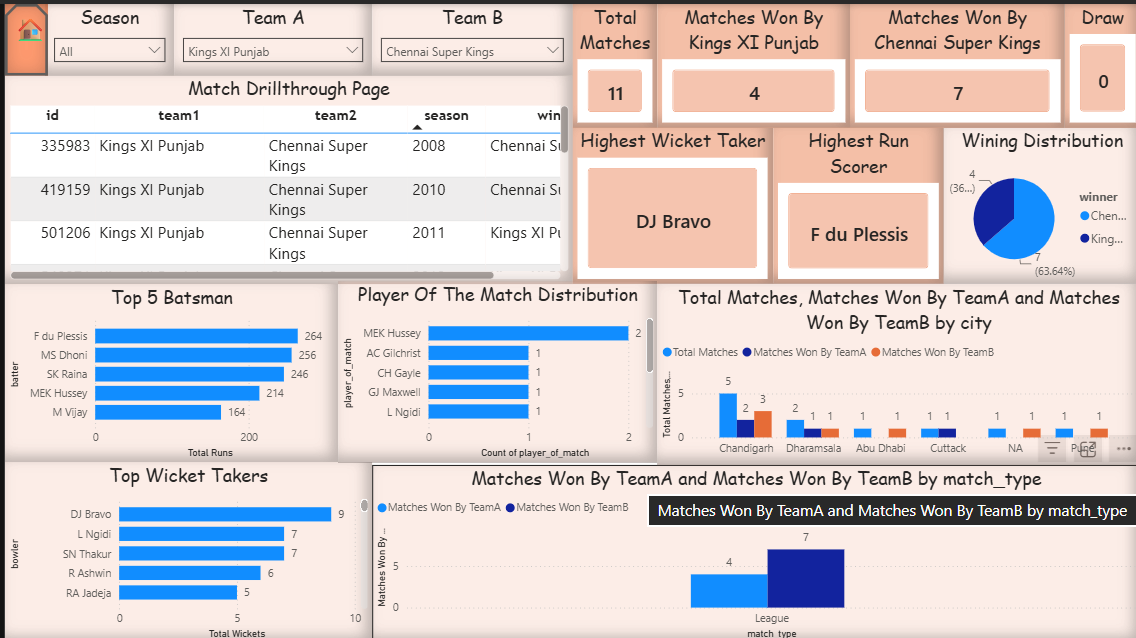

Layout of this report page (visuals, bound fields, positions):
{"tool":"powerbi","page":{"name":"Match Overview","canvas":[1280,720],"ordinal":6},"visuals":[{"type":"slicer","title":"Team A","fields":{"Values":["matches.team1"]},"box":[190.8,0,223.1,80.7],"z":0},{"type":"slicer","title":"Season","fields":{"Values":["matches.season"]},"box":[45.5,0,145.3,80.7],"z":1000},{"type":"slicer","title":"Team B","fields":{"Values":["matches.team2"]},"box":[413.8,0,226,80.7],"z":2000},{"type":"tableEx","title":"Match Drillthrough Page","fields":{"Values":["matches.id","matches.team1","matches.team2","matches.season","matches.winner"]},"box":[0,80.7,639.8,234.8],"z":3000},{"type":"cardVisual","title":"Total Matches","fields":{"Data":["deliveries.Total Matches"]},"box":[639.8,0,95.4,139.4],"z":4000},{"type":"cardVisual","fields":{"Data":["Batsman Parameter.Matches Won By TeamA"]},"box":[735.2,0,217.2,139.4],"z":5000},{"type":"cardVisual","fields":{"Data":["deliveries.Matches Won By TeamB"]},"box":[952.4,0,242.1,139.4],"z":6000},{"type":"cardVisual","title":"Draw","fields":{"Data":["deliveries.Matches Draw"]},"box":[1194.5,0,85.1,139.4],"z":7000},{"type":"cardVisual","title":"Highest Run Scorer","fields":{"Data":["deliveries.Highest Run Scorer"]},"box":[865.8,139.4,192.2,176.1],"z":8000},{"type":"cardVisual","title":"Highest  Wicket Taker","fields":{"Data":["deliveries.Highest Wicket Taker"]},"box":[639.8,139.4,226,176.1],"z":9000},{"type":"pieChart","title":"Wining Distribution","fields":{"Category":["matches.winner"],"Y":["CountNonNull(matches.winner)"]},"box":[1058,139.4,221.6,176.1],"z":10000},{"type":"clusteredBarChart","title":"Top 5 Batsman","fields":{"Y":["deliveries.Total Runs"],"Category":["Batter Team.batter"]},"box":[0,315.5,375.7,201],"z":11000},{"type":"barChart","title":"Top Wicket Takers","fields":{"Category":["deliveries.bowler"],"Y":["deliveries.Total Wickets"]},"box":[0,516.5,413.8,204],"z":12000},{"type":"clusteredBarChart","title":"Player Of The Match Distribution","fields":{"Category":["matches.player_of_match"],"Y":["CountNonNull(matches.player_of_match)"]},"box":[375.7,312.6,359.5,204],"z":13000},{"type":"clusteredColumnChart","fields":{"Category":["matches.match_type"],"Y":["Batsman Parameter.Matches Won By TeamA","deliveries.Matches Won By TeamB"]},"box":[413.8,519.5,865.8,201],"z":14000},{"type":"clusteredColumnChart","fields":{"Category":["matches.city"],"Y":["deliveries.Total Matches","Batsman Parameter.Matches Won By TeamA","deliveries.Matches Won By TeamB"]},"box":[735.2,315.5,544.4,204],"z":15000},{"type":"actionButton","box":[0,0,48.4,80.7],"z":16000}]}

Visuals, with their boxes in screenshot pixels (x1, y1, x2, y2), scaled from the page's 1280x720 canvas onto the 1136x638 screenshot:
"Team A" slicer: rect(169, 0, 367, 72)
"Season" slicer: rect(40, 0, 169, 72)
"Team B" slicer: rect(367, 0, 568, 72)
"Match Drillthrough Page" tableEx: rect(0, 72, 568, 280)
"Total Matches" cardVisual: rect(568, 0, 652, 124)
cardVisual - Batsman Parameter.Matches Won By TeamA: rect(652, 0, 845, 124)
cardVisual - deliveries.Matches Won By TeamB: rect(845, 0, 1060, 124)
"Draw" cardVisual: rect(1060, 0, 1135, 124)
"Highest Run Scorer" cardVisual: rect(768, 124, 939, 280)
"Highest  Wicket Taker" cardVisual: rect(568, 124, 768, 280)
"Wining Distribution" pieChart: rect(939, 124, 1135, 280)
"Top 5 Batsman" clusteredBarChart: rect(0, 280, 333, 458)
"Top Wicket Takers" barChart: rect(0, 458, 367, 637)
"Player Of The Match Distribution" clusteredBarChart: rect(333, 277, 652, 458)
clusteredColumnChart - matches.match_type x Batsman Parameter.Matches Won By TeamA: rect(367, 460, 1135, 637)
clusteredColumnChart - matches.city x deliveries.Total Matches: rect(652, 280, 1135, 460)
actionButton: rect(0, 0, 43, 72)
